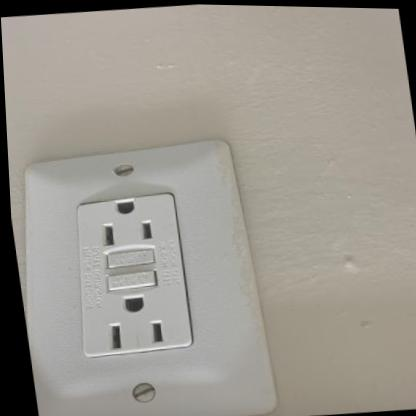OUTLET: (7, 132, 274, 416)
